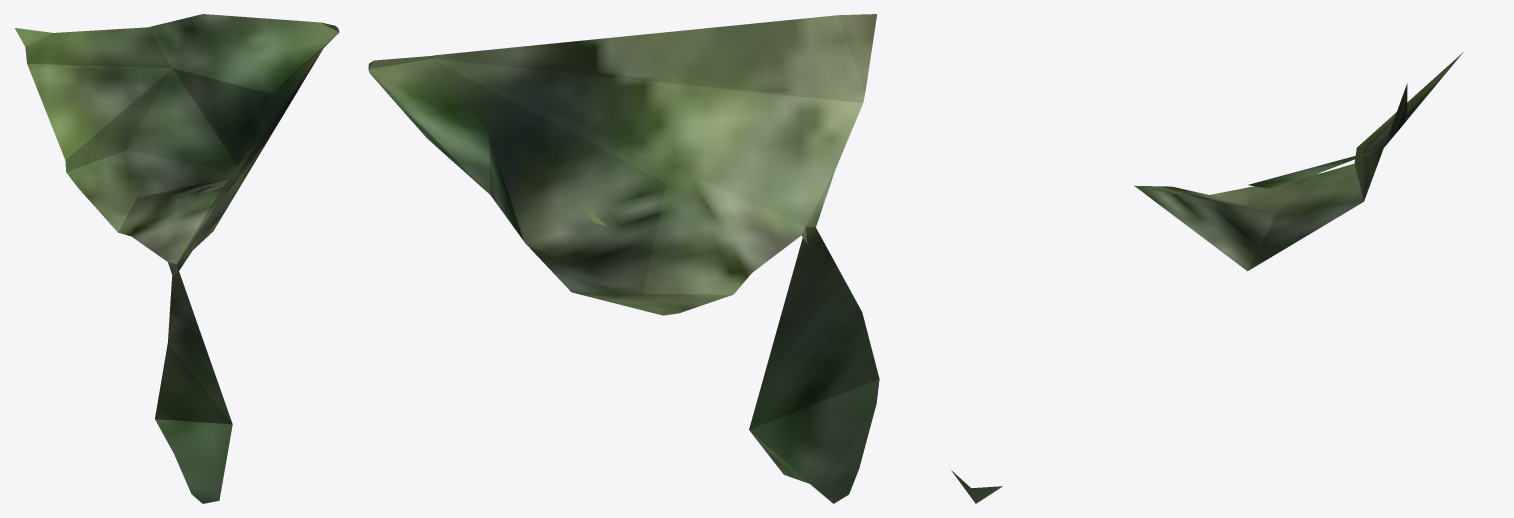
3 views of the same model, side by side, from view 1: azimuth 30°, elevation 25°; view 2: azimuth 150°, elevation 25°; view 3: azimuth 270°, elevation 25° (orthographic). The views are drawn at different scales.
Bounding box in the file's own units: 2.45 × 3.25 × 3.65.
Materials: 1 (1 with a texture image).
